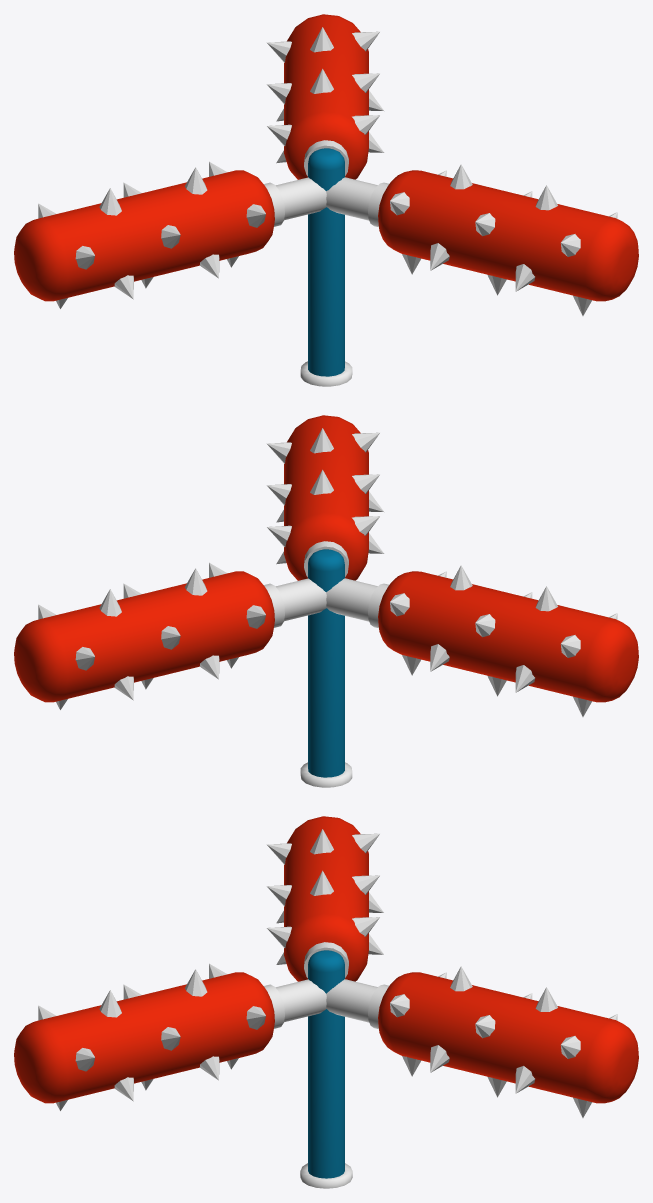
The model's file is Obs_8.fbx.
3 renders of one model, top to bottom at view 1: azimuth 30°, elevation 25°; view 2: azimuth 150°, elevation 25°; view 3: azimuth 270°, elevation 25°, orthographic.
Parts seen in each view (by area): view 1: Obs_8; view 2: Obs_8; view 3: Obs_8.
Part boxes in pixels (<box>): Obs_8: <box>14,14,638,386</box>; Obs_8: <box>14,415,638,787</box>; Obs_8: <box>14,816,638,1188</box>.
Bounding box in the file's own units: 2.6 × 1.26 × 2.95.
